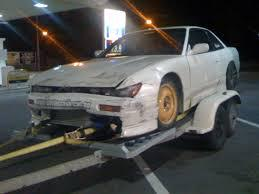bonnet-dent: (54, 51, 151, 87)
front-bumper-dent: (34, 96, 111, 130)
